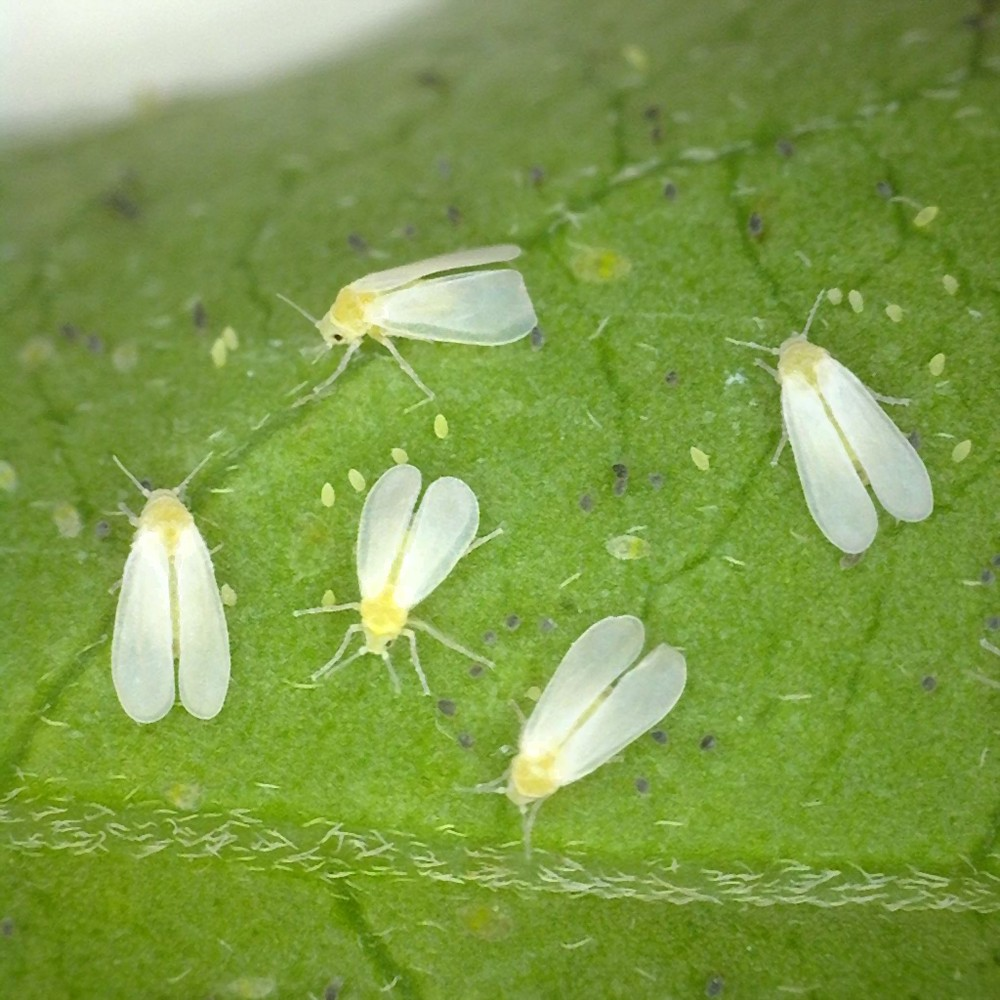Mosca Blanca: (718, 296, 962, 573), (254, 216, 593, 415), (276, 441, 505, 714), (456, 612, 692, 870), (70, 444, 268, 723)
